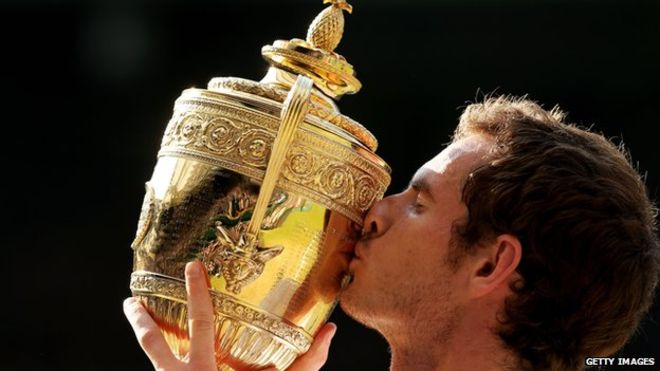trophy: (128, 1, 393, 371)
